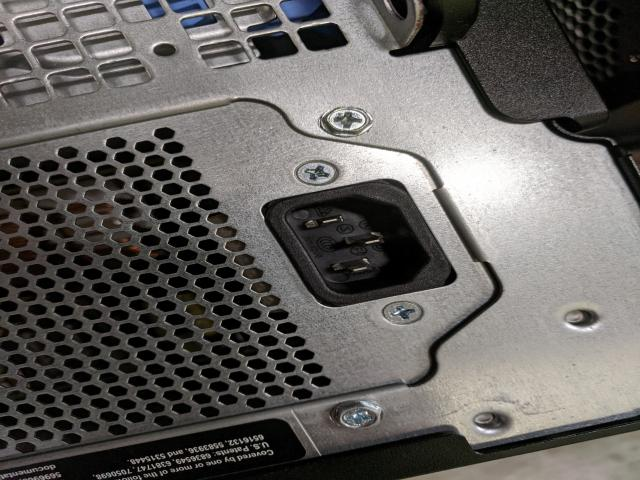CRS: (329, 399, 385, 430), (320, 105, 373, 136), (291, 159, 342, 186), (382, 299, 425, 327)
